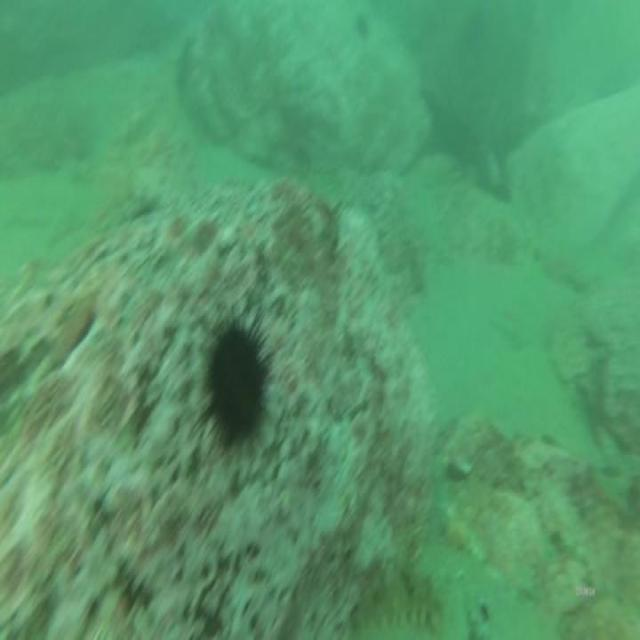echinus: (204, 314, 266, 452)
holothurian: (349, 561, 447, 640)
